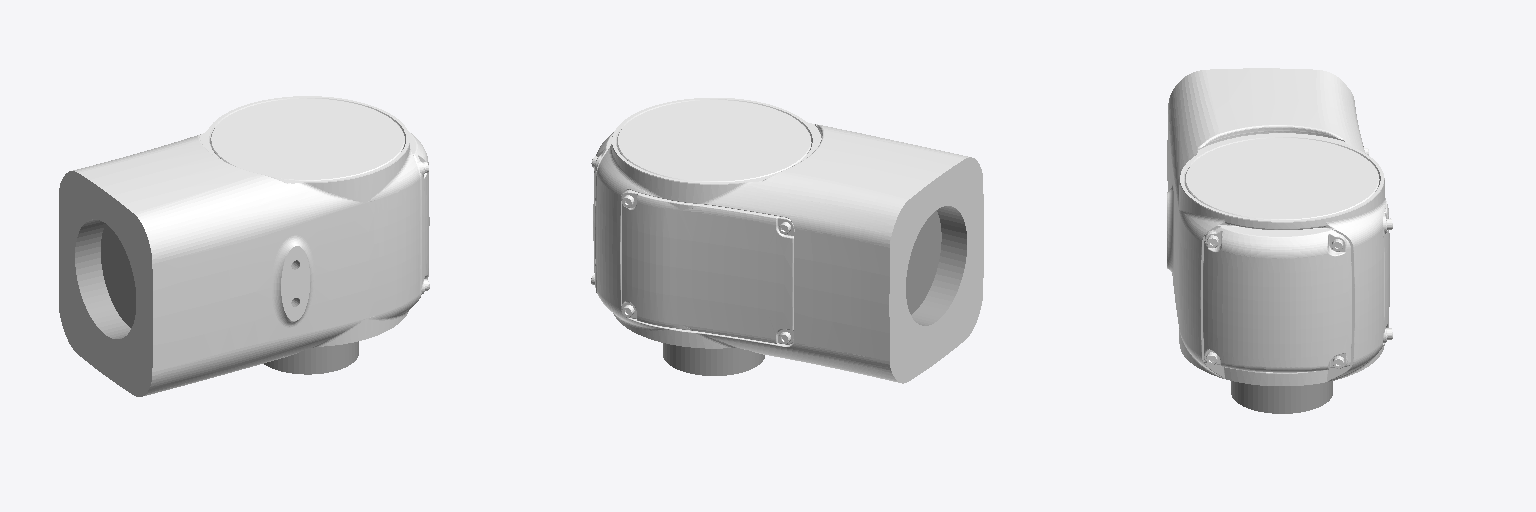
3 views of the same model, side by side, from view 1: azimuth 30°, elevation 25°; view 2: azimuth 150°, elevation 25°; view 3: azimuth 270°, elevation 25° (orthographic).
Visible parts, largest first — view 1: MeshBody1; view 2: MeshBody1; view 3: MeshBody1.
Part boxes in pixels (x1,y1,x2,y2): MeshBody1: (59,96,429,396); MeshBody1: (591,98,983,383); MeshBody1: (1167,68,1392,413).
Size of the model in its own units: 180 by 119 by 110.